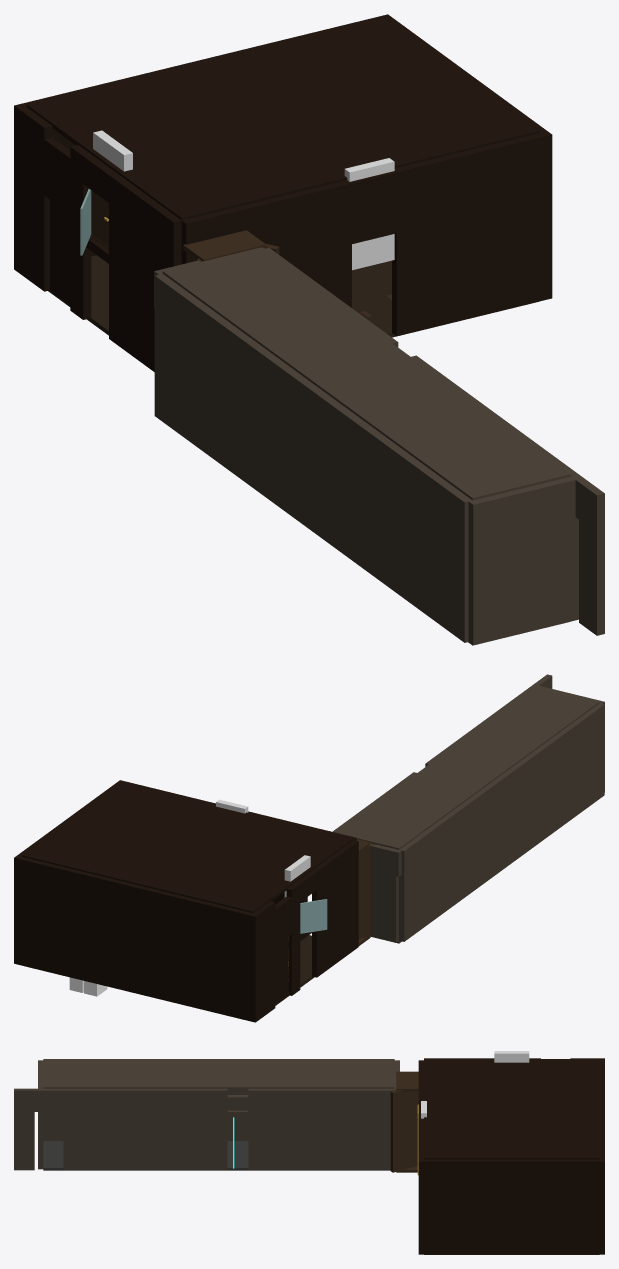
Rendered from z4z5_connector_v1.glb.
3 renders of one model, top to bottom at view 1: azimuth 30°, elevation 25°; view 2: azimuth 150°, elevation 25°; view 3: azimuth 270°, elevation 25°, orthographic. The views are drawn at different scales.
Visible parts, largest first — view 1: Z5_Ceiling, Z4_Wall_W, Z4_Ceiling, Z5_Wall_S_R, Z4_Wall_S, Z5_Wall_S_M, Z5_Wall_W_S, Z5_Wall_W_N, Z4_Wall_E_S1, Z5_Floor, Z5_Wall_W_Mid, Z5_Wall_S_LintelMain (+14 smaller); view 2: Z5_Wall_N, Z5_Ceiling, Z4_Wall_W, Z4_Ceiling, Z5_Wall_W_S, Z4_Wall_N_L, Z5_Wall_W_N, Z5_Wall_W_Mid, Z4Z5_Vest_Wall_W, Z5_Wall_W_WinL, Z5_Window_Glass, Z5_Wall_E (+3 smaller); view 3: Z5_Wall_E, Z5_Ceiling, Z4_Wall_E_Mid, Z4_Wall_E_N, Z4_Ceiling, Z4Z5_Vest_Wall_E, Z4_Wall_E_S1, Z4_Floor, Z4_Wall_W, Z5_Wall_N, Z4_Wall_E_DoorLintel, Z4_Wall_S (+3 smaller).
Part boxes in pixels (<box>): Z5_Ceiling: <box>26,17,539,220</box>; Z4_Wall_W: <box>154,273,472,642</box>; Z4_Ceiling: <box>162,247,570,500</box>; Z5_Wall_S_R: <box>392,133,544,336</box>; Z4_Wall_S: <box>468,475,578,645</box>; Z5_Wall_S_M: <box>258,180,351,307</box>; Z5_Wall_W_S: <box>122,182,181,371</box>; Z5_Wall_W_N: <box>18,107,52,291</box>; Z4_Wall_E_S1: <box>579,480,604,635</box>; Z5_Floor: <box>48,255,538,337</box>; Z5_Wall_W_Mid: <box>70,145,91,319</box>; Z5_Wall_S_LintelMain: <box>350,171,396,243</box>; Z5_Wall_N: <box>14,855,258,1022</box>; Z5_Ceiling: <box>22,782,353,913</box>; Z4_Wall_W: <box>399,703,604,941</box>; Z4_Ceiling: <box>336,686,599,849</box>; Z5_Wall_W_S: <box>320,840,358,971</box>; Z4_Wall_N_L: <box>370,844,398,942</box>; Z5_Wall_W_N: <box>254,901,275,1019</box>; Z5_Wall_W_Mid: <box>286,883,300,995</box>; Z4Z5_Vest_Wall_W: <box>358,843,376,938</box>; Z5_Wall_W_WinL: <box>312,864,325,977</box>; Z5_Window_Glass: <box>300,899,327,933</box>; Z5_Wall_E: <box>14,780,124,964</box>; Z5_Wall_E: <box>418,1159,604,1254</box>; Z5_Ceiling: <box>424,1059,599,1159</box>; Z4_Wall_E_Mid: <box>63,1088,227,1170</box>; Z4_Wall_E_N: <box>248,1088,394,1170</box>; Z4_Ceiling: <box>43,1060,394,1089</box>; Z4Z5_Vest_Wall_E: <box>390,1090,418,1172</box>; Z4_Wall_E_S1: <box>14,1088,34,1170</box>; Z4_Floor: <box>43,1141,390,1170</box>; Z4_Wall_W: <box>43,1059,394,1140</box>; Z5_Wall_N: <box>599,1058,604,1254</box>; Z4_Wall_E_DoorLintel: <box>34,1088,63,1111</box>; Z4_Wall_S: <box>38,1060,43,1169</box>.
Size of the model in its own units: 9.36 by 4.58 by 20.18.
